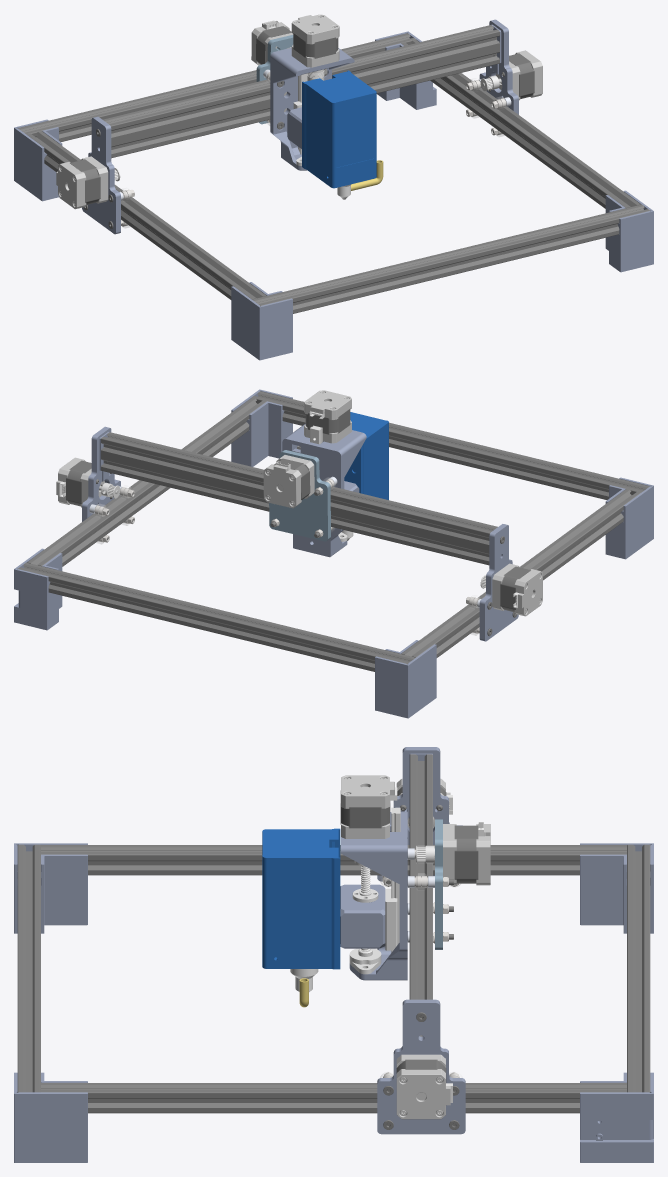
The model's file is 0_LASER_ENGRAVER_V2.glb.
3 views of the same model, one above another, from view 1: azimuth 30°, elevation 25°; view 2: azimuth 150°, elevation 25°; view 3: azimuth 270°, elevation 25° (orthographic). The views are drawn at different scales.
Parts seen in each view (by area): view 1: V-SLOT_2040-1, V-SLOT_2020-1, LASER_MODULE-1, V-SLOT_2020-4, V-SLOT_2020-2, V-SLOT_2020-3, FEET_SW-1, Z-AXIS_SUPPORT_BOX-1, FEET_SE-1, FEET_NW-1, MOTOR_NEMA_17HS4401-1, ASSY_Y-PLATE_WEST-1/MOTOR_NEMA_17HS4401-1 (+7 smaller); view 2: V-SLOT_2040-1, V-SLOT_2020-3, V-SLOT_2020-1, V-SLOT_2020-4, V-SLOT_2020-2, FEET_NW-1, Z-AXIS_SUPPORT_BOX-1, LASER_MODULE-1, FEET_SE-1, PLATE_X_GANTRY_REAR-1, FEET_NE-1, FEET_SW-1 (+6 smaller); view 3: V-SLOT_2020-4, LASER_MODULE-1, V-SLOT_2020-2, V-SLOT_2020-1, V-SLOT_2020-3, FEET_NE-1, FEET_SE-1, V-SLOT_2040-1, ASSY_Y-PLATE_EAST-1/PLATE_Y_GANTRY_20-1, Z-AXIS_SUPPORT_BOX-1, FEET_SW-1, FEET_NW-1 (+8 smaller).
Part boxes in pixels (x1,y1,x2,y2): V-SLOT_2040-1: [103, 25, 499, 158]; V-SLOT_2020-1: [252, 204, 649, 313]; LASER_MODULE-1: [302, 70, 383, 199]; V-SLOT_2020-4: [401, 39, 640, 208]; V-SLOT_2020-2: [27, 131, 266, 299]; V-SLOT_2020-3: [18, 33, 415, 141]; FEET_SW-1: [231, 282, 292, 360]; Z-AXIS_SUPPORT_BOX-1: [270, 47, 354, 170]; FEET_SE-1: [605, 190, 653, 272]; FEET_NW-1: [14, 119, 62, 201]; MOTOR_NEMA_17HS4401-1: [291, 14, 339, 67]; ASSY_Y-PLATE_WEST-1/MOTOR_NEMA_17HS4401-1: [56, 156, 108, 209]; V-SLOT_2040-1: [101, 432, 497, 565]; V-SLOT_2020-3: [18, 562, 415, 671]; V-SLOT_2020-1: [251, 391, 649, 499]; V-SLOT_2020-4: [27, 397, 266, 566]; V-SLOT_2020-2: [401, 489, 640, 657]; FEET_NW-1: [375, 640, 436, 718]; Z-AXIS_SUPPORT_BOX-1: [282, 423, 366, 557]; LASER_MODULE-1: [342, 412, 388, 540]; FEET_SE-1: [231, 389, 292, 466]; PLATE_X_GANTRY_REAR-1: [269, 450, 330, 541]; FEET_NE-1: [14, 548, 62, 630]; FEET_SW-1: [605, 477, 653, 559]; V-SLOT_2020-4: [41, 1083, 626, 1113]; LASER_MODULE-1: [262, 828, 340, 1007]; V-SLOT_2020-2: [41, 845, 626, 875]; V-SLOT_2020-1: [17, 844, 40, 1092]; V-SLOT_2020-3: [627, 844, 650, 1092]; FEET_NE-1: [580, 1072, 653, 1162]; FEET_SE-1: [14, 1072, 87, 1162]; V-SLOT_2040-1: [409, 754, 432, 1036]; ASSY_Y-PLATE_EAST-1/PLATE_Y_GANTRY_20-1: [377, 999, 465, 1134]; Z-AXIS_SUPPORT_BOX-1: [341, 812, 407, 980]; FEET_SW-1: [14, 843, 87, 933]; FEET_NW-1: [580, 843, 653, 933].
Bounding box in the file's own units: 0.5978 × 0.2336 × 0.546.
